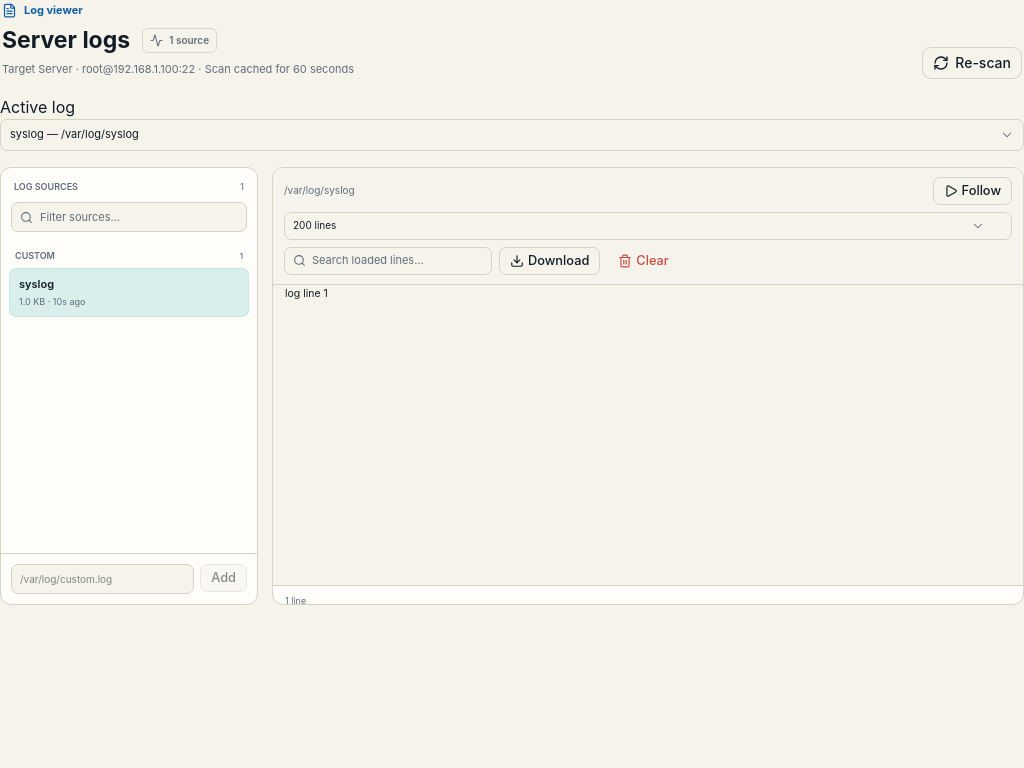
Empirical Challenger: Tab Modals Accessibility & Focus Verification › LogsTab Clear Log Modal › renders Clear Log modal with autofocus on confirm and Escape dismissal
Step 1. Click the button "Clear" → [644, 261], box x1=607 y1=247 x2=680 y2=275
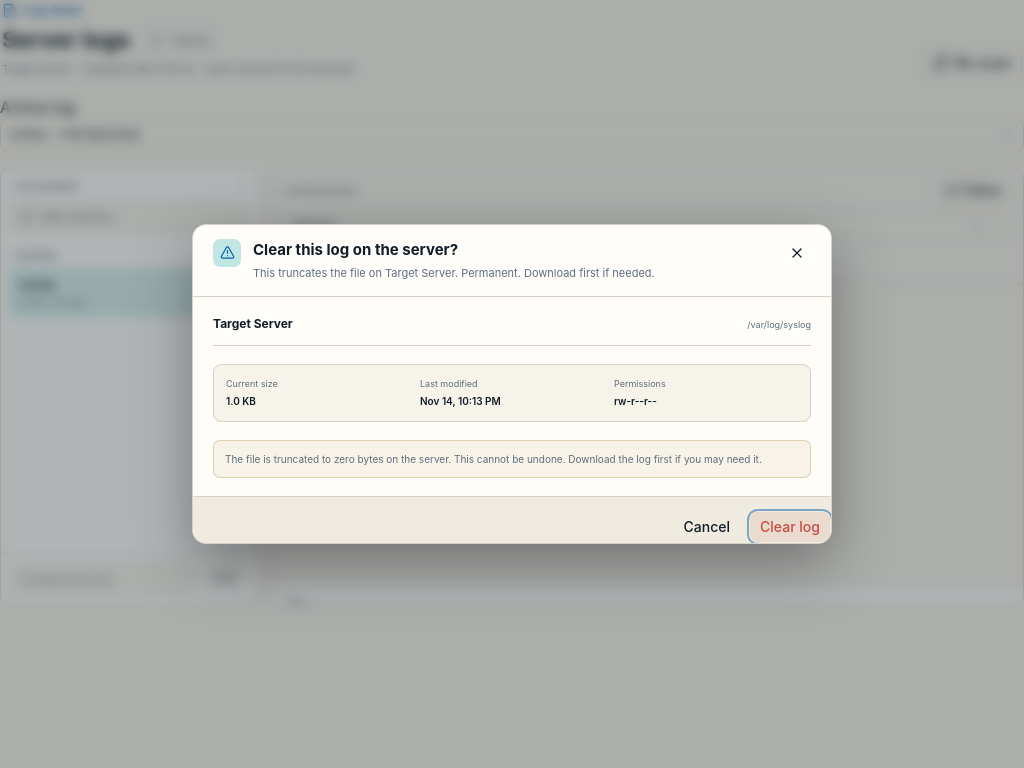
Check: the dialog is shown, box x1=192 y1=224 x2=832 y2=544
// Escape closes modal
Step 2. Press Escape
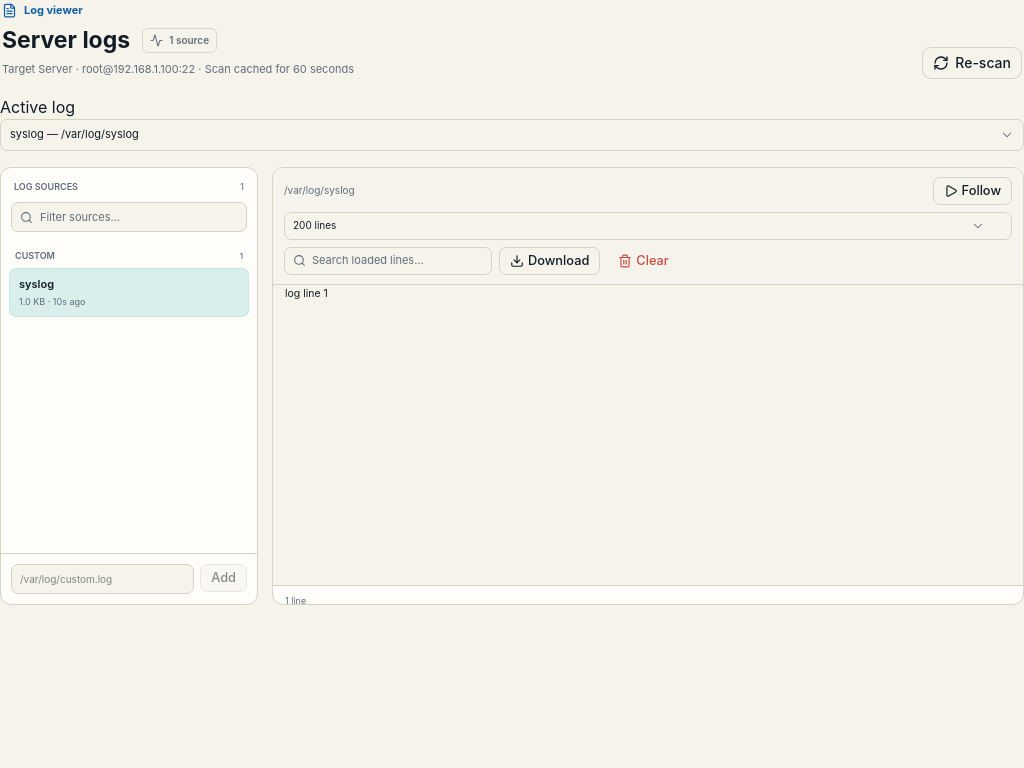
Check: the dialog is gone
